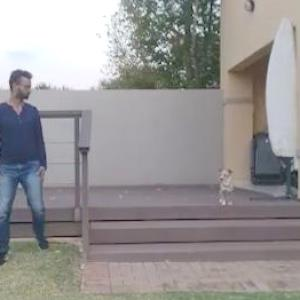follow: (0, 63, 52, 276)
